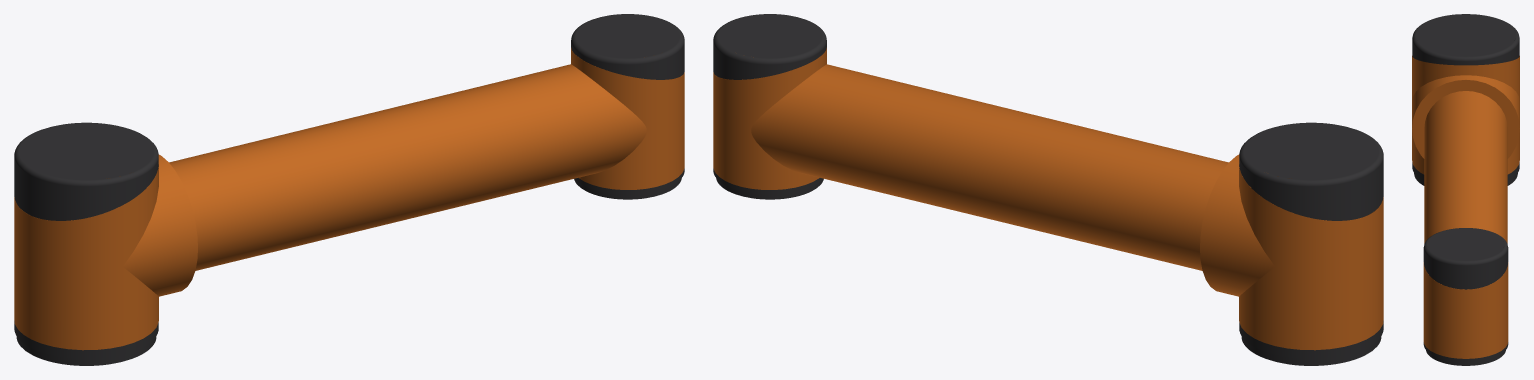
3 views of the same model, side by side, from view 1: azimuth 30°, elevation 25°; view 2: azimuth 150°, elevation 25°; view 3: azimuth 270°, elevation 25° (orthographic). The views are drawn at different scales.
Parts seen in each view (by area): view 1: NONE-DC_Shell_ncl1_3, NONE-DC_Shell_ncl1_1, NONE-DC_Shell, NONE-DC_Shell_ncl1_4, NONE-DC_Shell_ncl1_2; view 2: NONE-DC_Shell_ncl1_3, NONE-DC_Shell_ncl1_1, NONE-DC_Shell, NONE-DC_Shell_ncl1_4, NONE-DC_Shell_ncl1_2; view 3: NONE-DC_Shell_ncl1_3, NONE-DC_Shell_ncl1_1, NONE-DC_Shell, NONE-DC_Shell_ncl1_2, NONE-DC_Shell_ncl1_4.
Part boxes in pixels (x1,y1,x2,y2): NONE-DC_Shell_ncl1_3: [14, 48, 684, 350]; NONE-DC_Shell_ncl1_1: [14, 122, 158, 220]; NONE-DC_Shell: [571, 14, 684, 79]; NONE-DC_Shell_ncl1_4: [14, 321, 158, 365]; NONE-DC_Shell_ncl1_2: [574, 168, 684, 199]; NONE-DC_Shell_ncl1_3: [713, 48, 1383, 350]; NONE-DC_Shell_ncl1_1: [1239, 122, 1383, 220]; NONE-DC_Shell: [713, 14, 826, 79]; NONE-DC_Shell_ncl1_4: [1239, 321, 1383, 365]; NONE-DC_Shell_ncl1_2: [713, 168, 823, 199]; NONE-DC_Shell_ncl1_3: [1412, 56, 1519, 358]; NONE-DC_Shell_ncl1_1: [1412, 14, 1519, 65]; NONE-DC_Shell: [1423, 228, 1508, 289]; NONE-DC_Shell_ncl1_2: [1423, 342, 1508, 365]; NONE-DC_Shell_ncl1_4: [1412, 162, 1519, 185].
Size of the model in its own units: 0.781 by 0.15 by 0.211.
